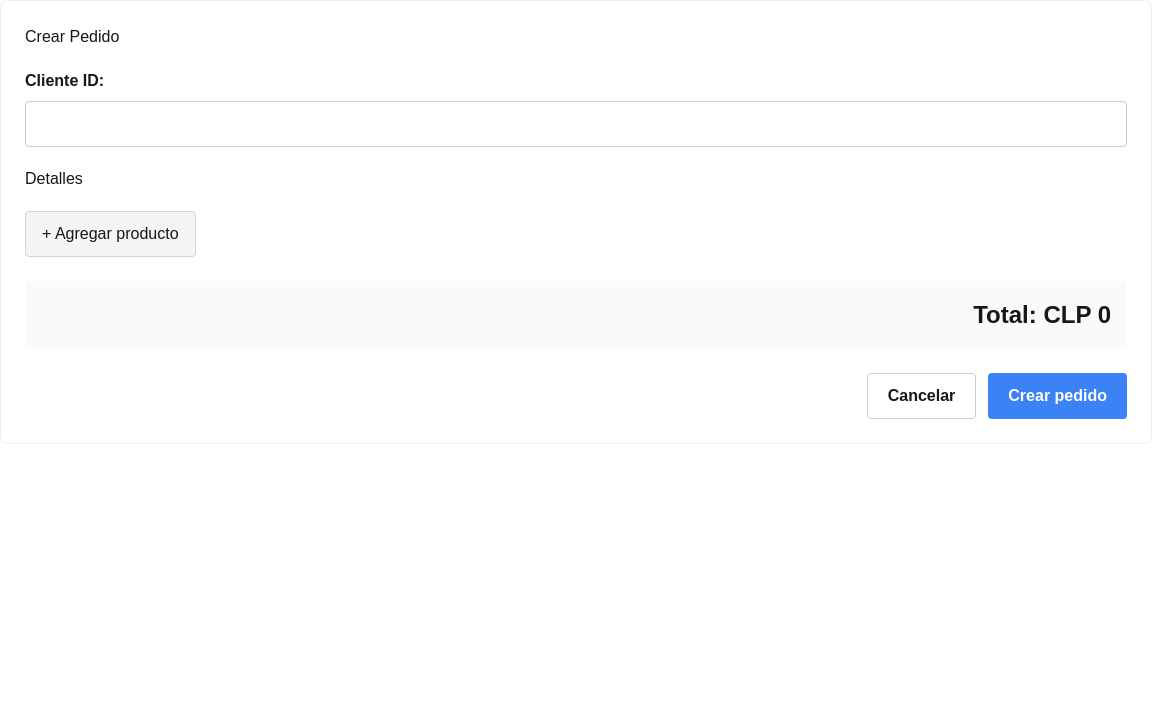
Test: total se actualiza al seleccionar producto y cantidad
The image size is (1152, 720).
Click the button "+ Agregar producto": click(110, 234) x1=25 y1=211 x2=196 y2=257
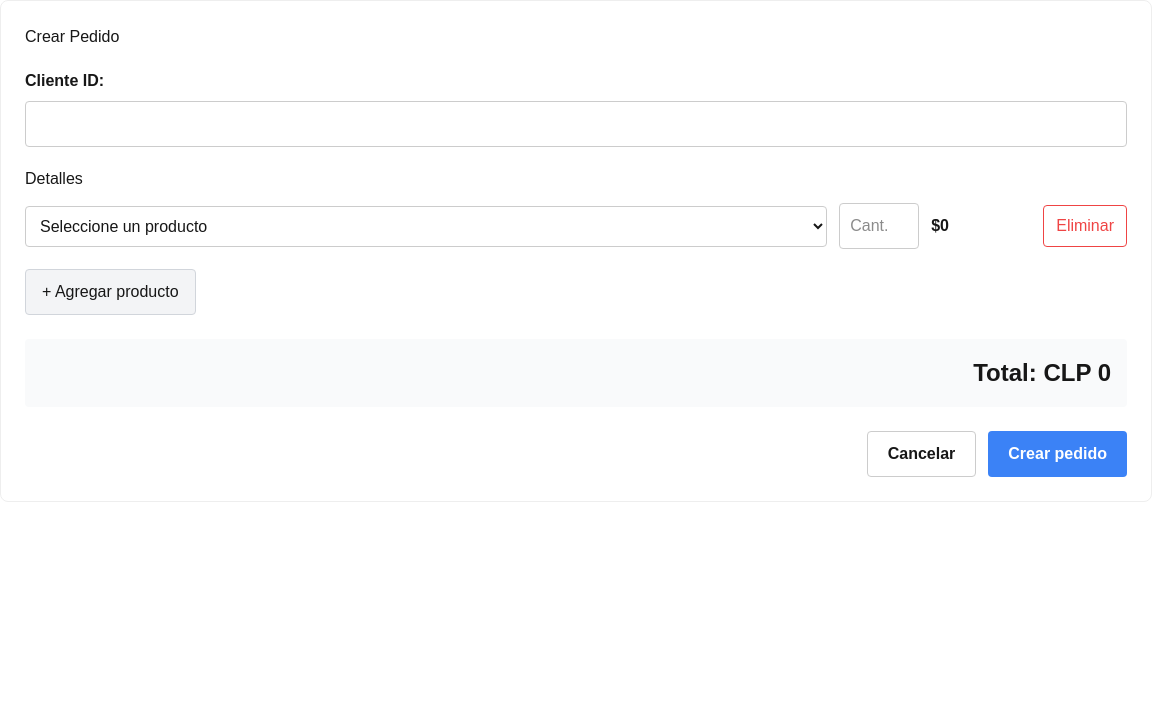
Select "Mesa (Stock: 10)" in the dropdown: (426, 226) x1=25 y1=206 x2=827 y2=246
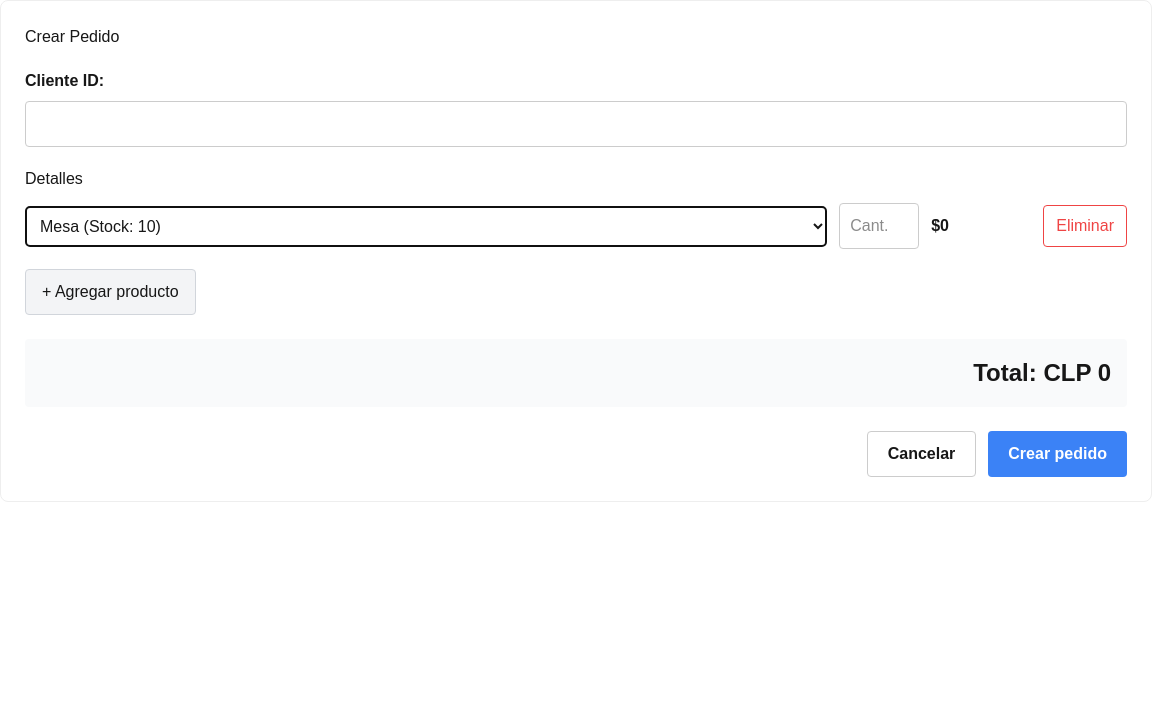
In the number field: (879, 226) x1=839 y1=203 x2=919 y2=249, type "2"
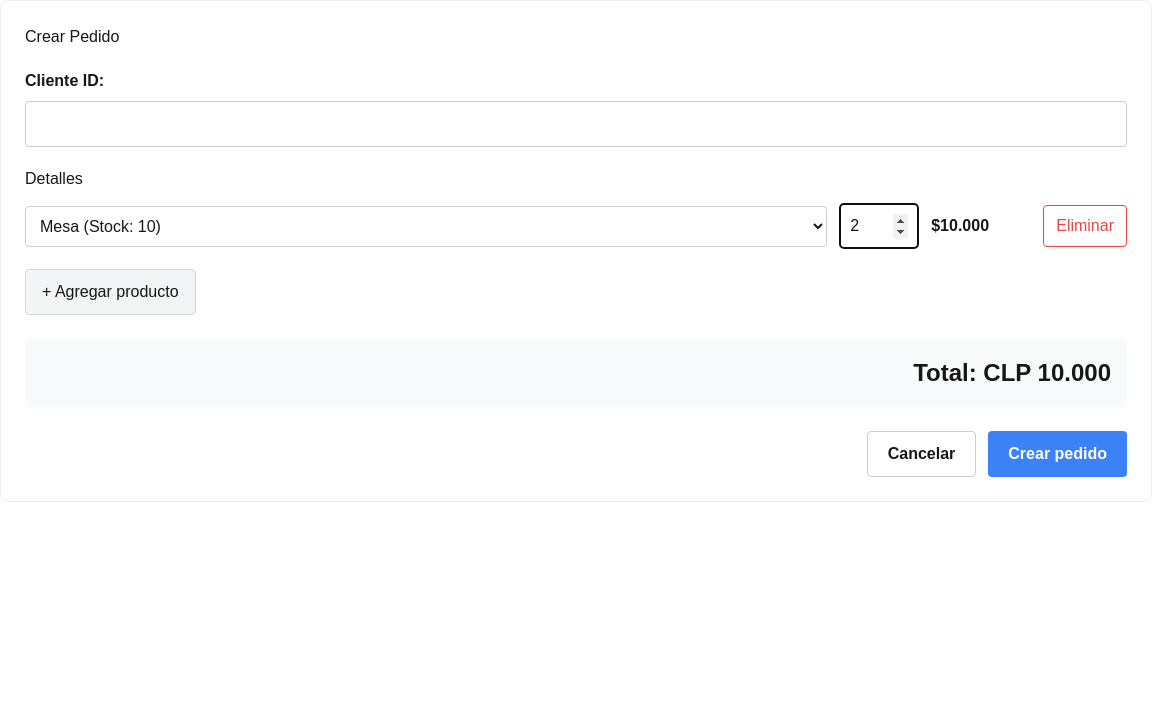
Check: the text "$10.000" is shown, box x1=931 y1=217 x2=989 y2=234
